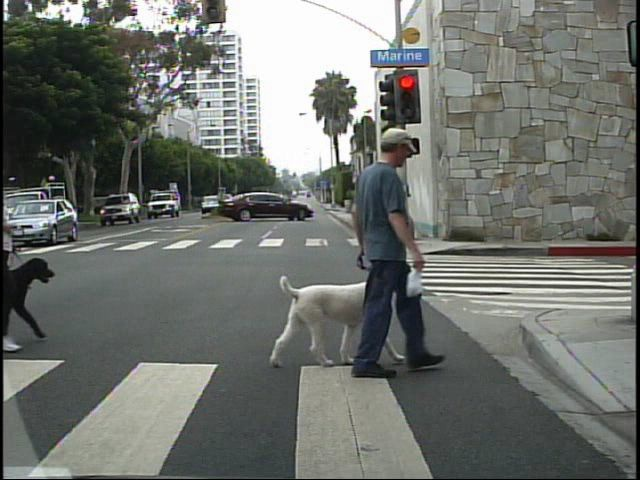person: (326, 111, 443, 379)
